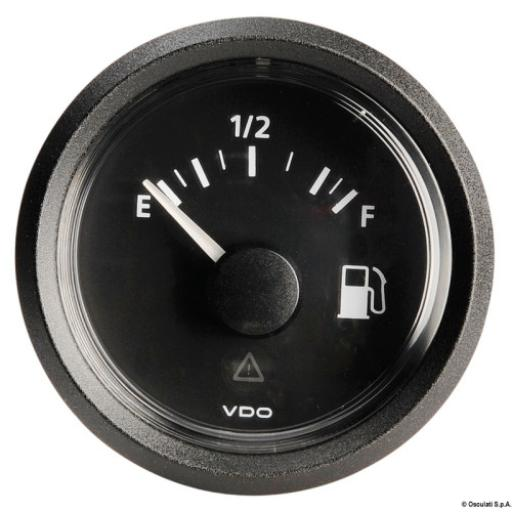empty: (126, 194, 152, 220)
fuel_icon: (333, 254, 393, 325)
full: (356, 202, 382, 233)
guage_area: (14, 18, 496, 496)
needle_center: (198, 239, 308, 339)
needle_tip: (129, 175, 165, 194)
